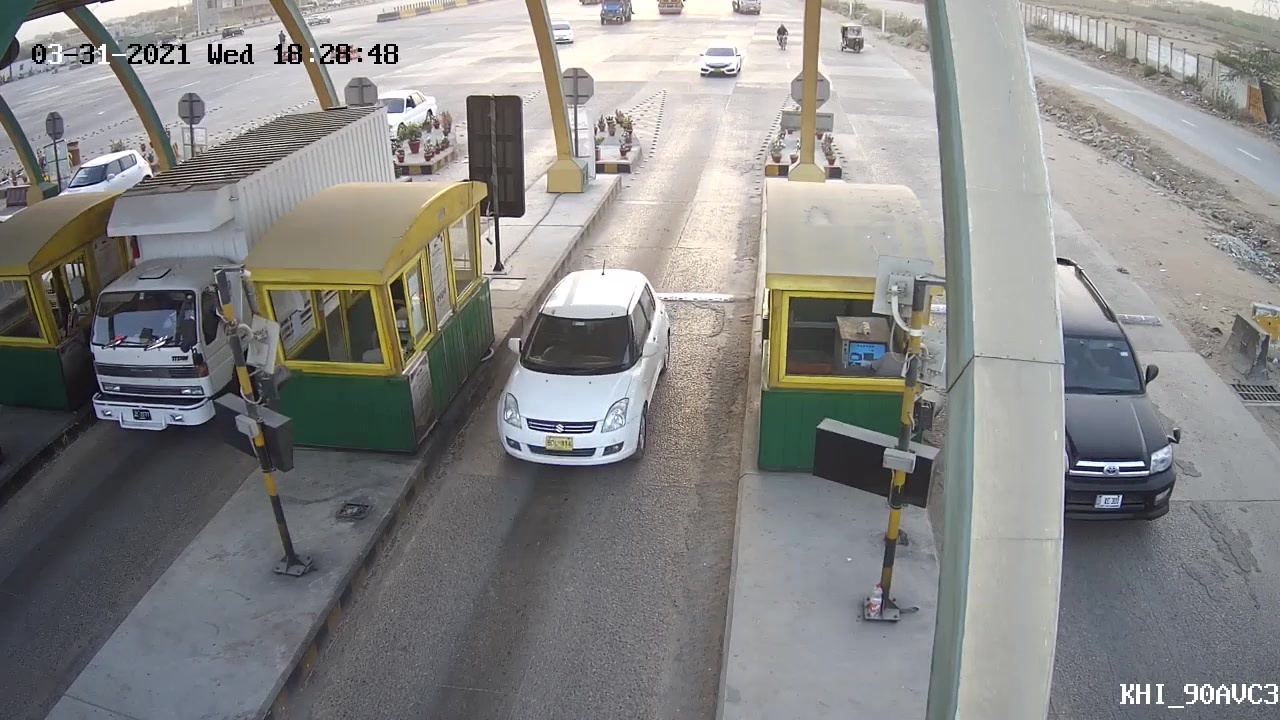F1: (485, 260, 675, 466)
